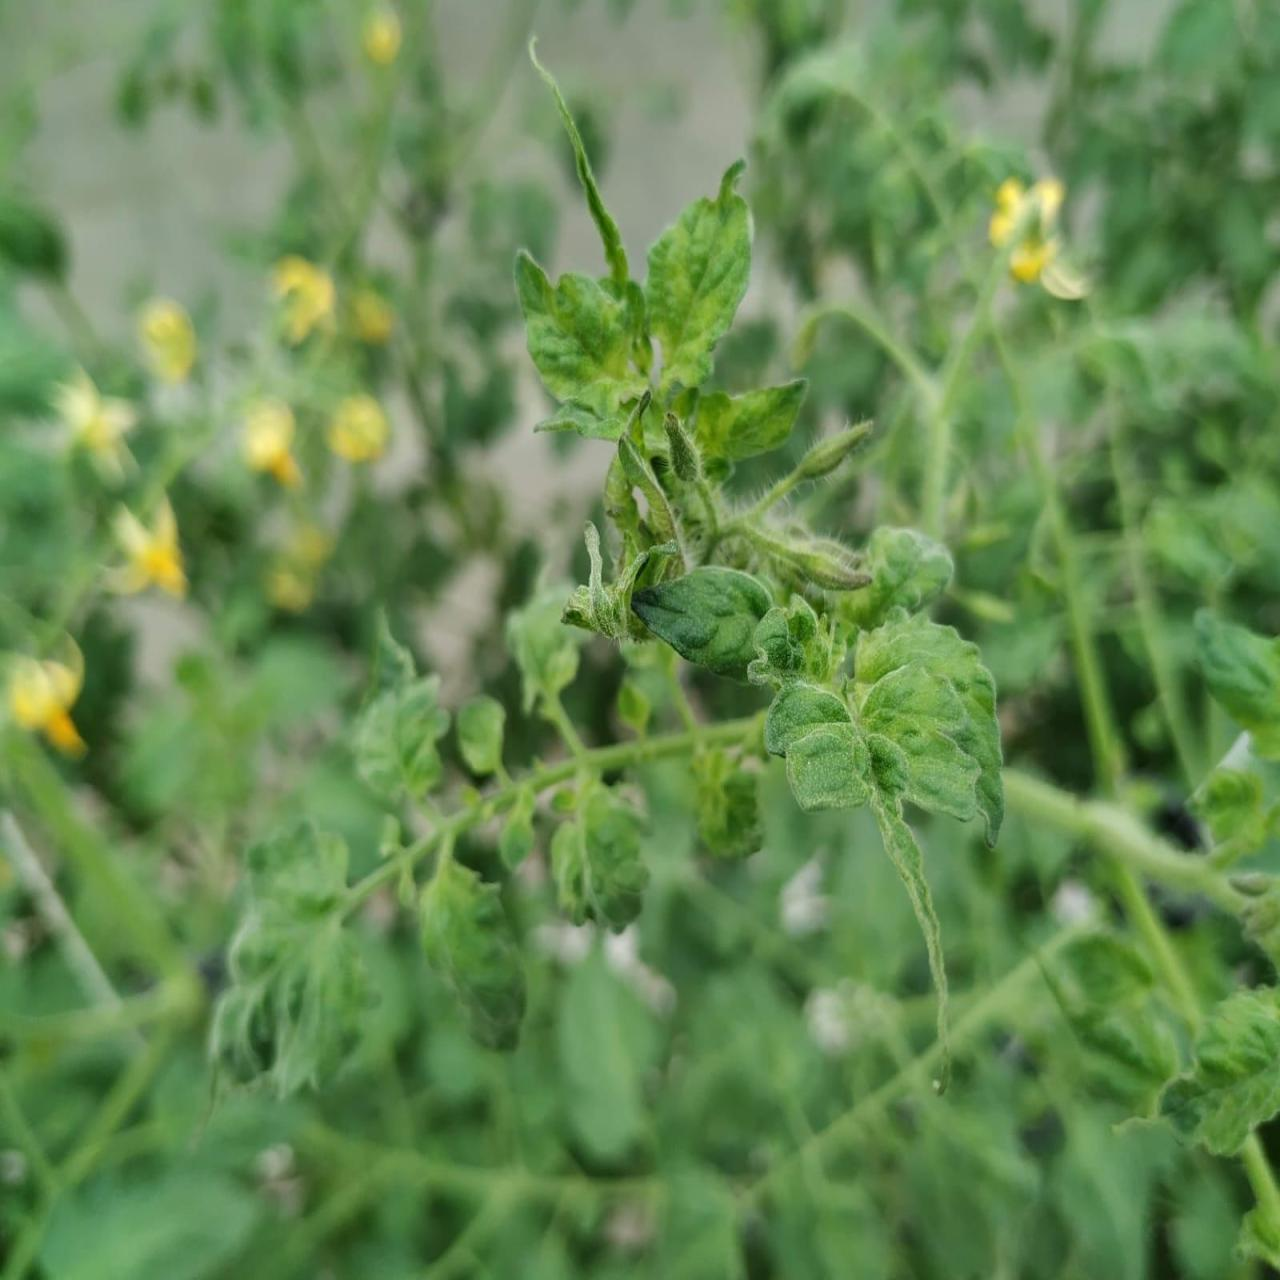T_Fl_R: (663, 411, 704, 484)
T_L_H: (634, 568, 774, 679)
T_L_R: (856, 618, 1006, 844), (516, 254, 649, 440), (646, 164, 754, 386), (765, 682, 872, 811), (696, 381, 809, 461)
